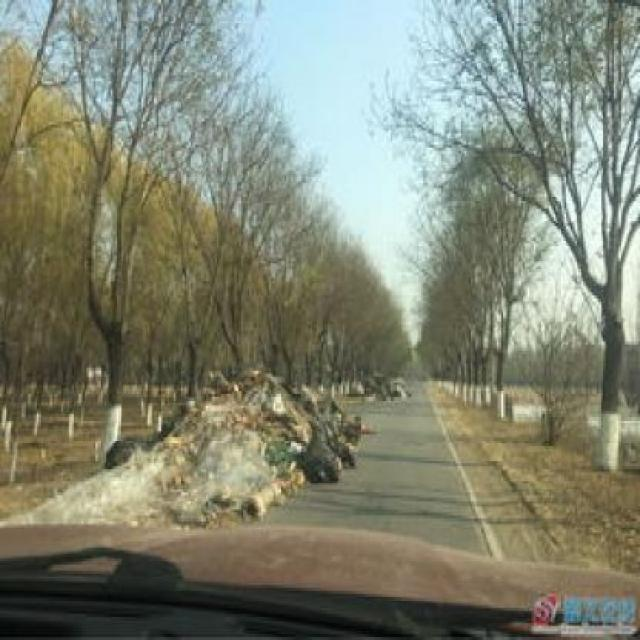garbage: (112, 414, 323, 481), (20, 480, 269, 521), (191, 377, 321, 408)
